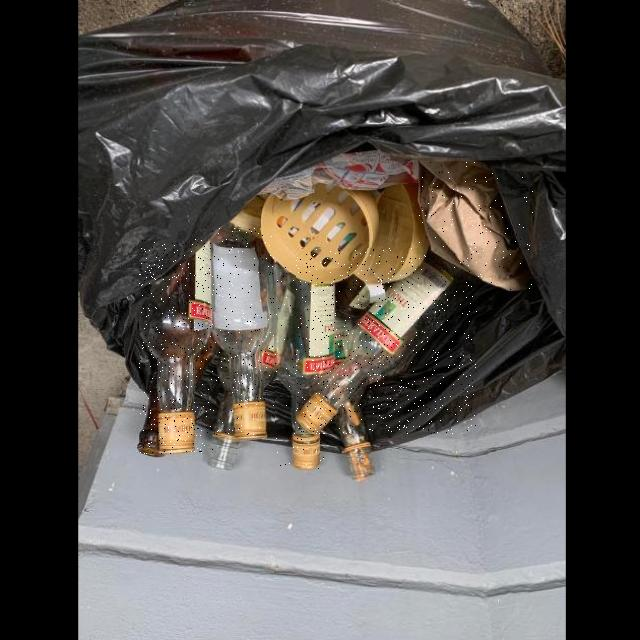glass: (296, 248, 477, 434), (140, 239, 213, 453), (213, 228, 276, 437), (275, 264, 336, 470)
paper: (419, 159, 533, 291)
